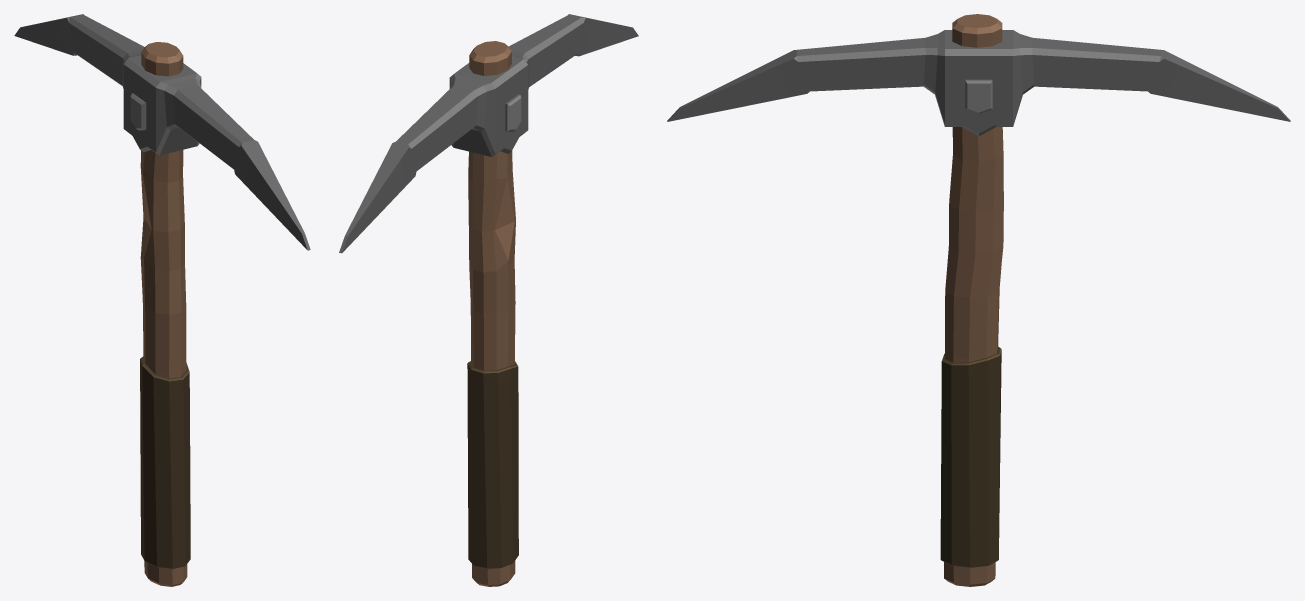
Rendered from Pickaxe.fbx.
The picture shows the model from 3 angles, left to right: view 1: azimuth 30°, elevation 25°; view 2: azimuth 150°, elevation 25°; view 3: azimuth 270°, elevation 25°; orthographic projection. The views are drawn at different scales.
Parts seen in each view (by area): view 1: Pickaxe; view 2: Pickaxe; view 3: Pickaxe.
Boxes of the visible parts, x1=… form: Pickaxe: x1=14, y1=14, x2=310, y2=586; Pickaxe: x1=339, y1=14, x2=638, y2=586; Pickaxe: x1=667, y1=14, x2=1290, y2=586.
Bounding box in the file's own units: 13.04 × 124 × 125.
